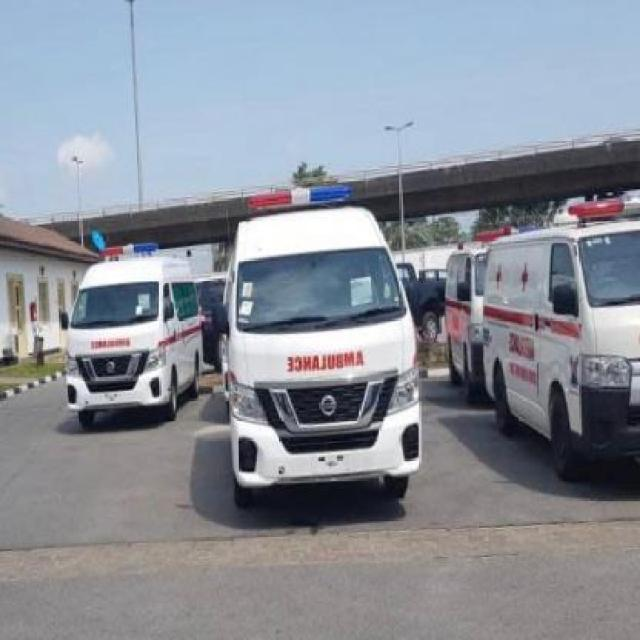emergency: (216, 202, 424, 506), (483, 197, 640, 485), (64, 236, 202, 434)
